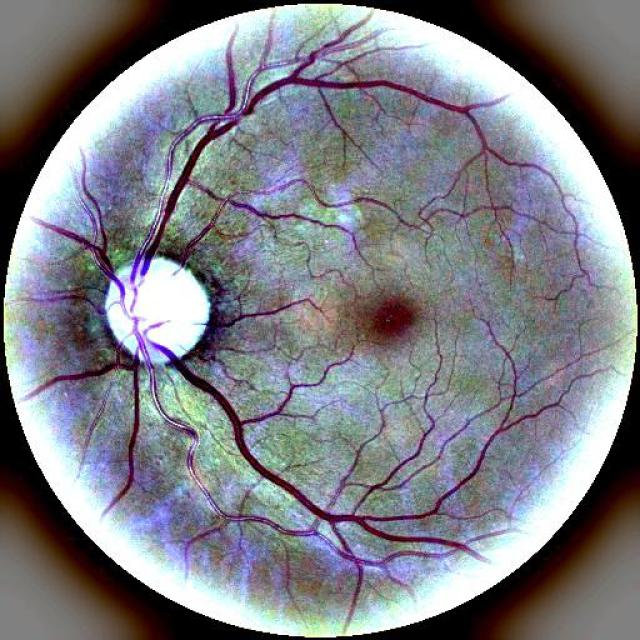Macula: (356, 294, 427, 345)
Nerves: (32, 19, 558, 315), (20, 330, 484, 624), (420, 424, 510, 518), (235, 425, 299, 498), (178, 220, 214, 269), (156, 400, 198, 439), (176, 144, 202, 191), (216, 392, 240, 426), (130, 400, 138, 457), (121, 460, 132, 494), (134, 246, 149, 269), (166, 196, 174, 209), (158, 225, 162, 240)
Optic Disk: (99, 259, 211, 369)
